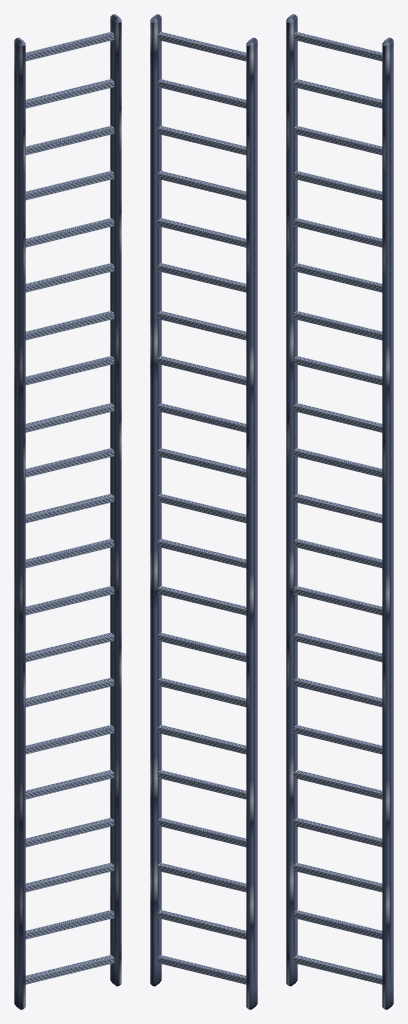
Rendered from Escada_8m.v1.fbx.
3 views of the same model, side by side, from view 1: azimuth 30°, elevation 25°; view 2: azimuth 150°, elevation 25°; view 3: azimuth 330°, elevation 25° (orthographic).
Parts seen in each view (by area): view 1: Escada_8m; view 2: Escada_8m; view 3: Escada_8m.
Part boxes in pixels (x1,y1,x2,y2): Escada_8m: (14,14,121,1009); Escada_8m: (150,14,257,1009); Escada_8m: (286,14,393,1009).
Size of the model in its own units: 90.91 by 12.69 by 818.
